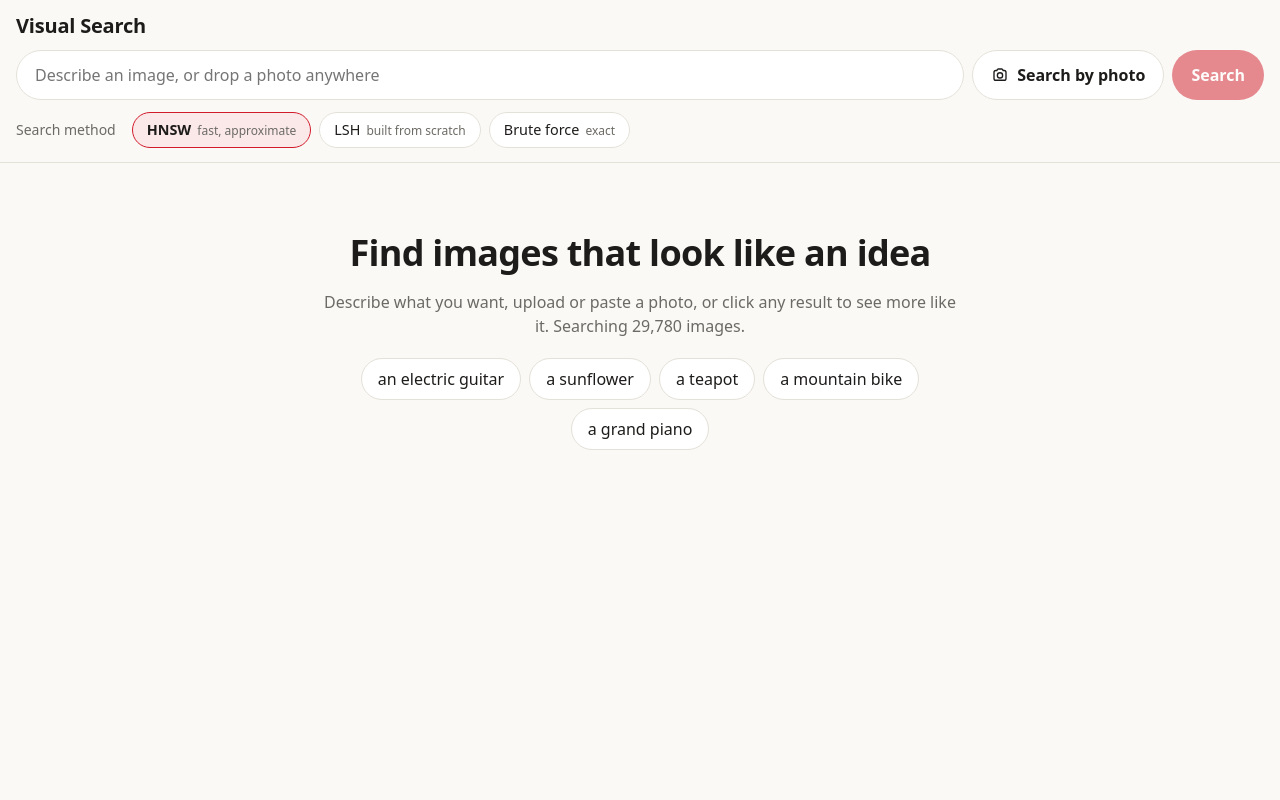
Test: App › repeats the current search with the newly chosen method
What coordinates should you click on to do the following:
click the button "an electric guitar"
I would click on:
 (441, 379)
Its box is [361,358,521,400].
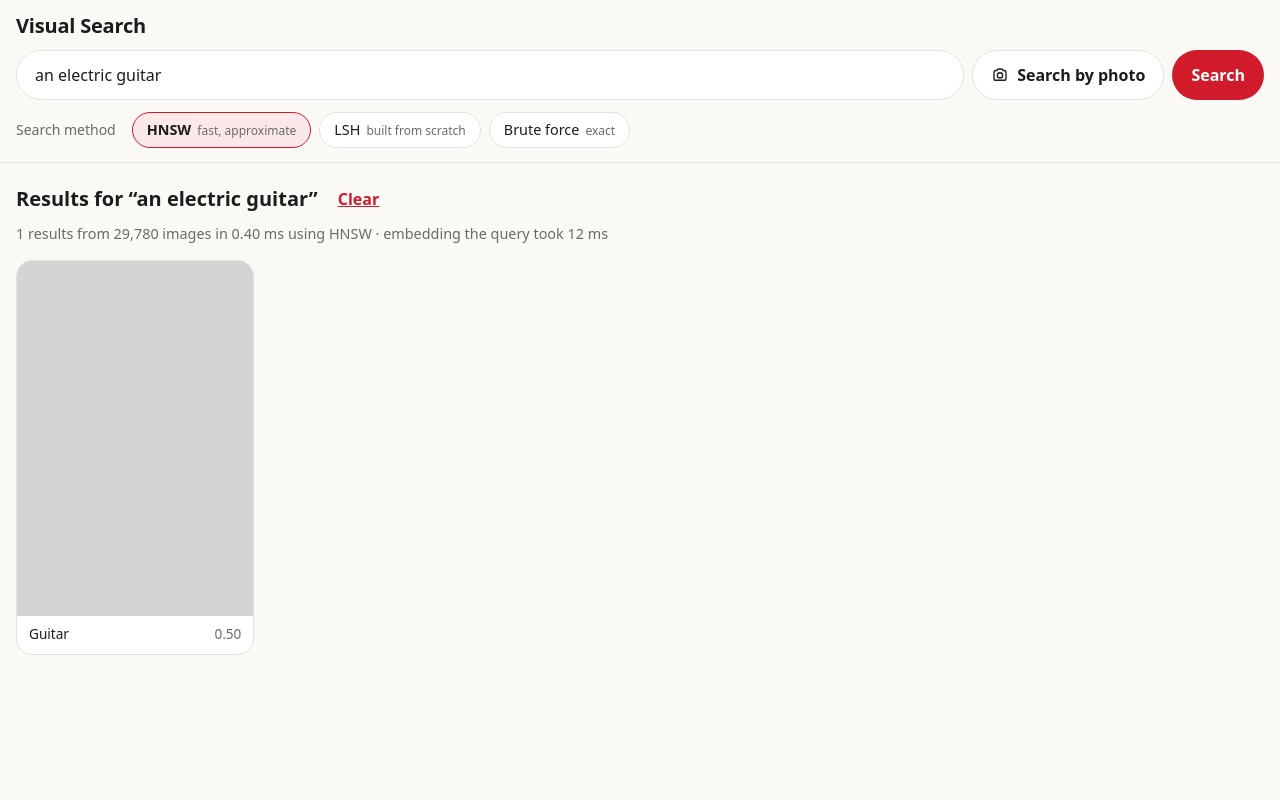
Expected: the text "using HNSW" is shown, [16,224,608,243]
What coordinates should you click on to do the following:
click the radio button labelled "Brute force exact"
I would click on:
 (559, 130)
Its box is [489,112,630,148].
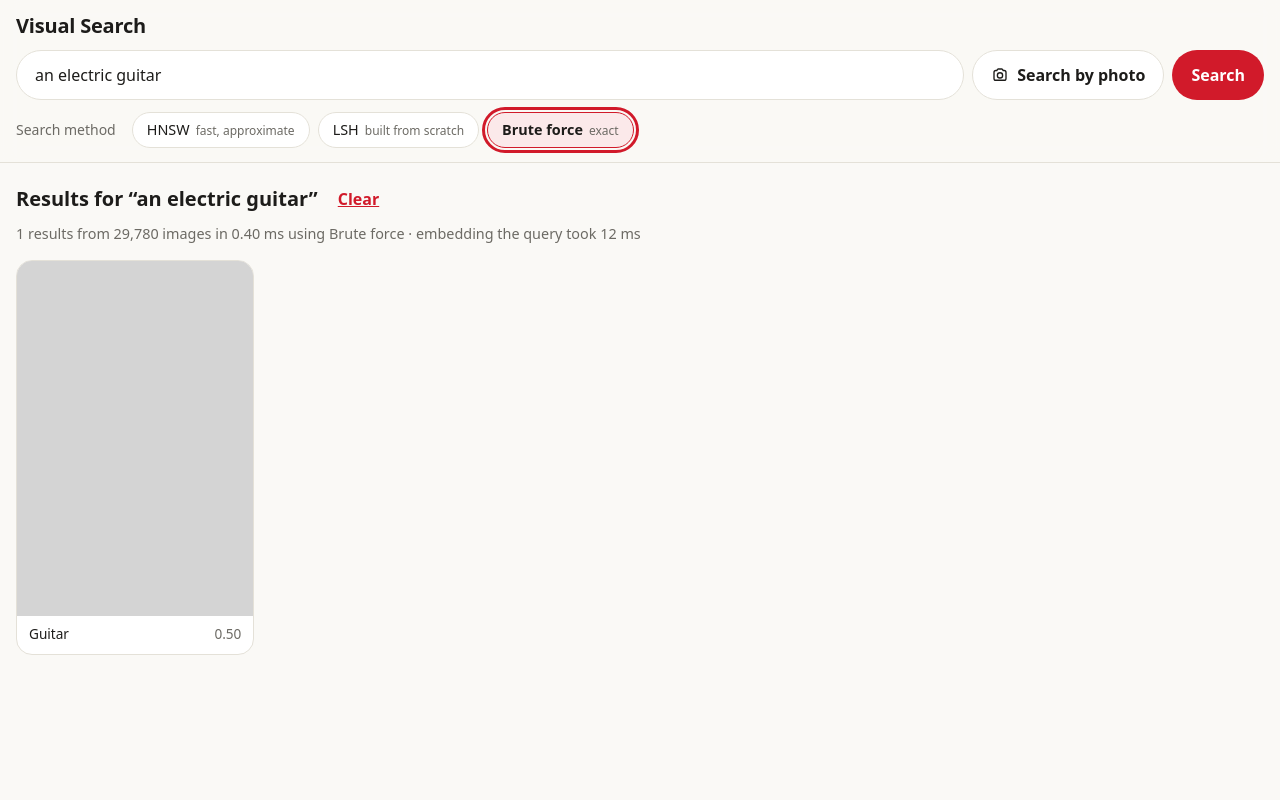
Expected: the text "using Brute force" is shown, [16,224,641,243]
